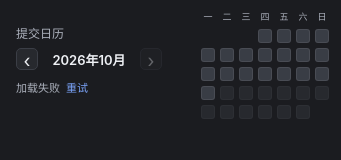
Test case: reports lookup failures and allows retry instead of inventing zero counts
This screenshot has width=341, height=160.
Click the button with class "retry".
click(77, 87)  # box [63,79,91,95]
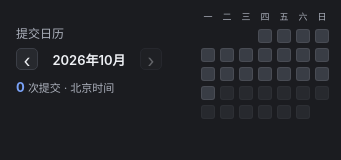
Now the text "加载失败" is gone
